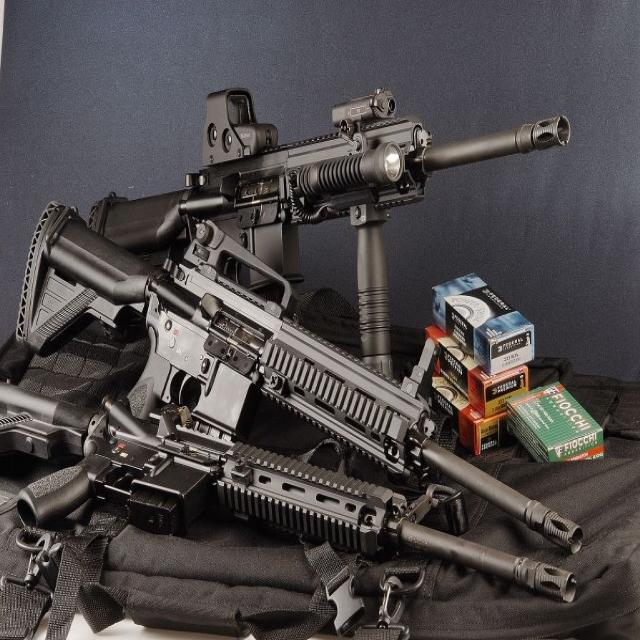firearm: (15, 200, 583, 556), (0, 375, 579, 606), (86, 84, 571, 291)
